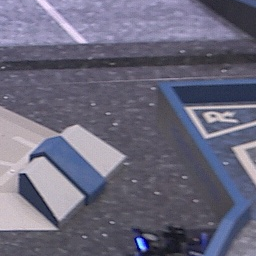Robot: (129, 226, 208, 256)
